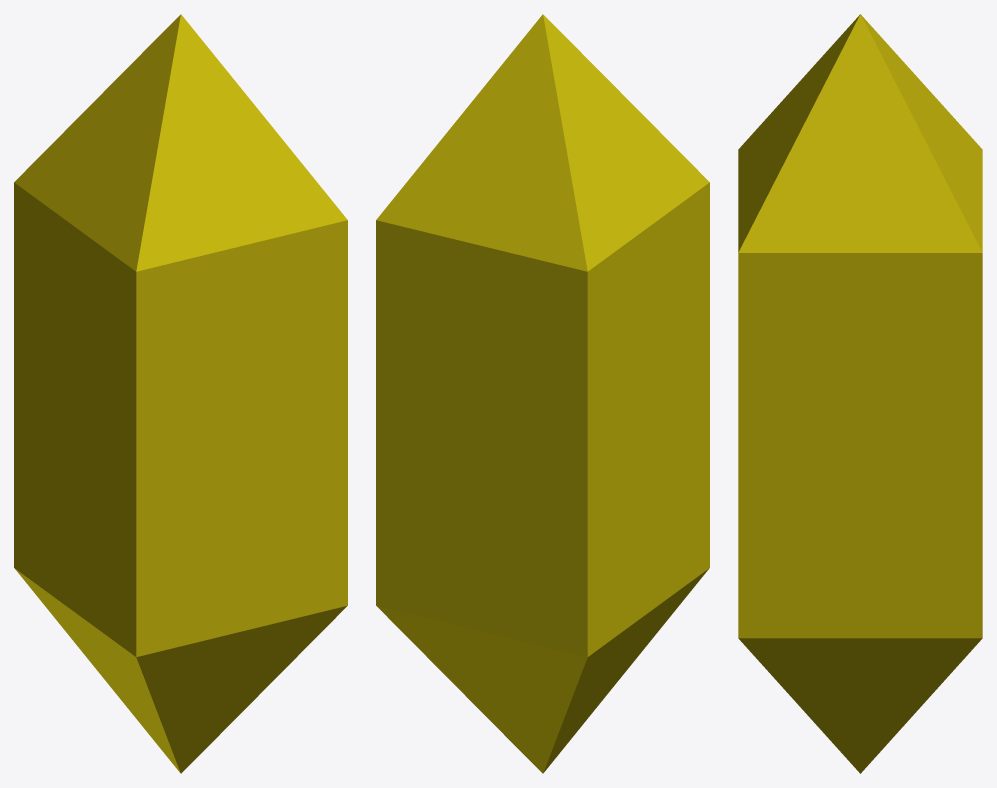
Rendered from treasure1ButtonText.obj.
3 renders of one model, left to right at view 1: azimuth 30°, elevation 25°; view 2: azimuth 150°, elevation 25°; view 3: azimuth 270°, elevation 25°, orthographic.
Parts seen in each view (by area): view 1: treasure1ButtonText; view 2: treasure1ButtonText; view 3: treasure1ButtonText.
Part boxes in pixels (x1,y1,x2,y2): treasure1ButtonText: (14, 14, 347, 773); treasure1ButtonText: (376, 14, 709, 773); treasure1ButtonText: (738, 14, 982, 773).
Size of the model in its own units: 0.2169 by 0.7443 by 0.2169.
